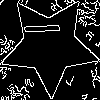I: (24, 20, 68, 36)
